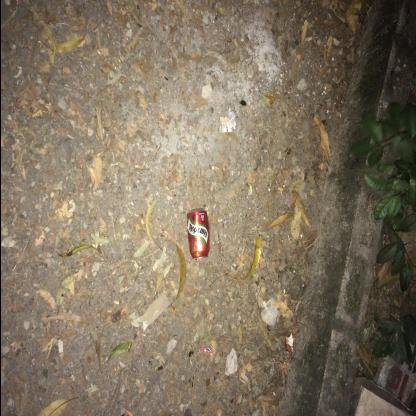metal: (186, 207, 208, 260)
